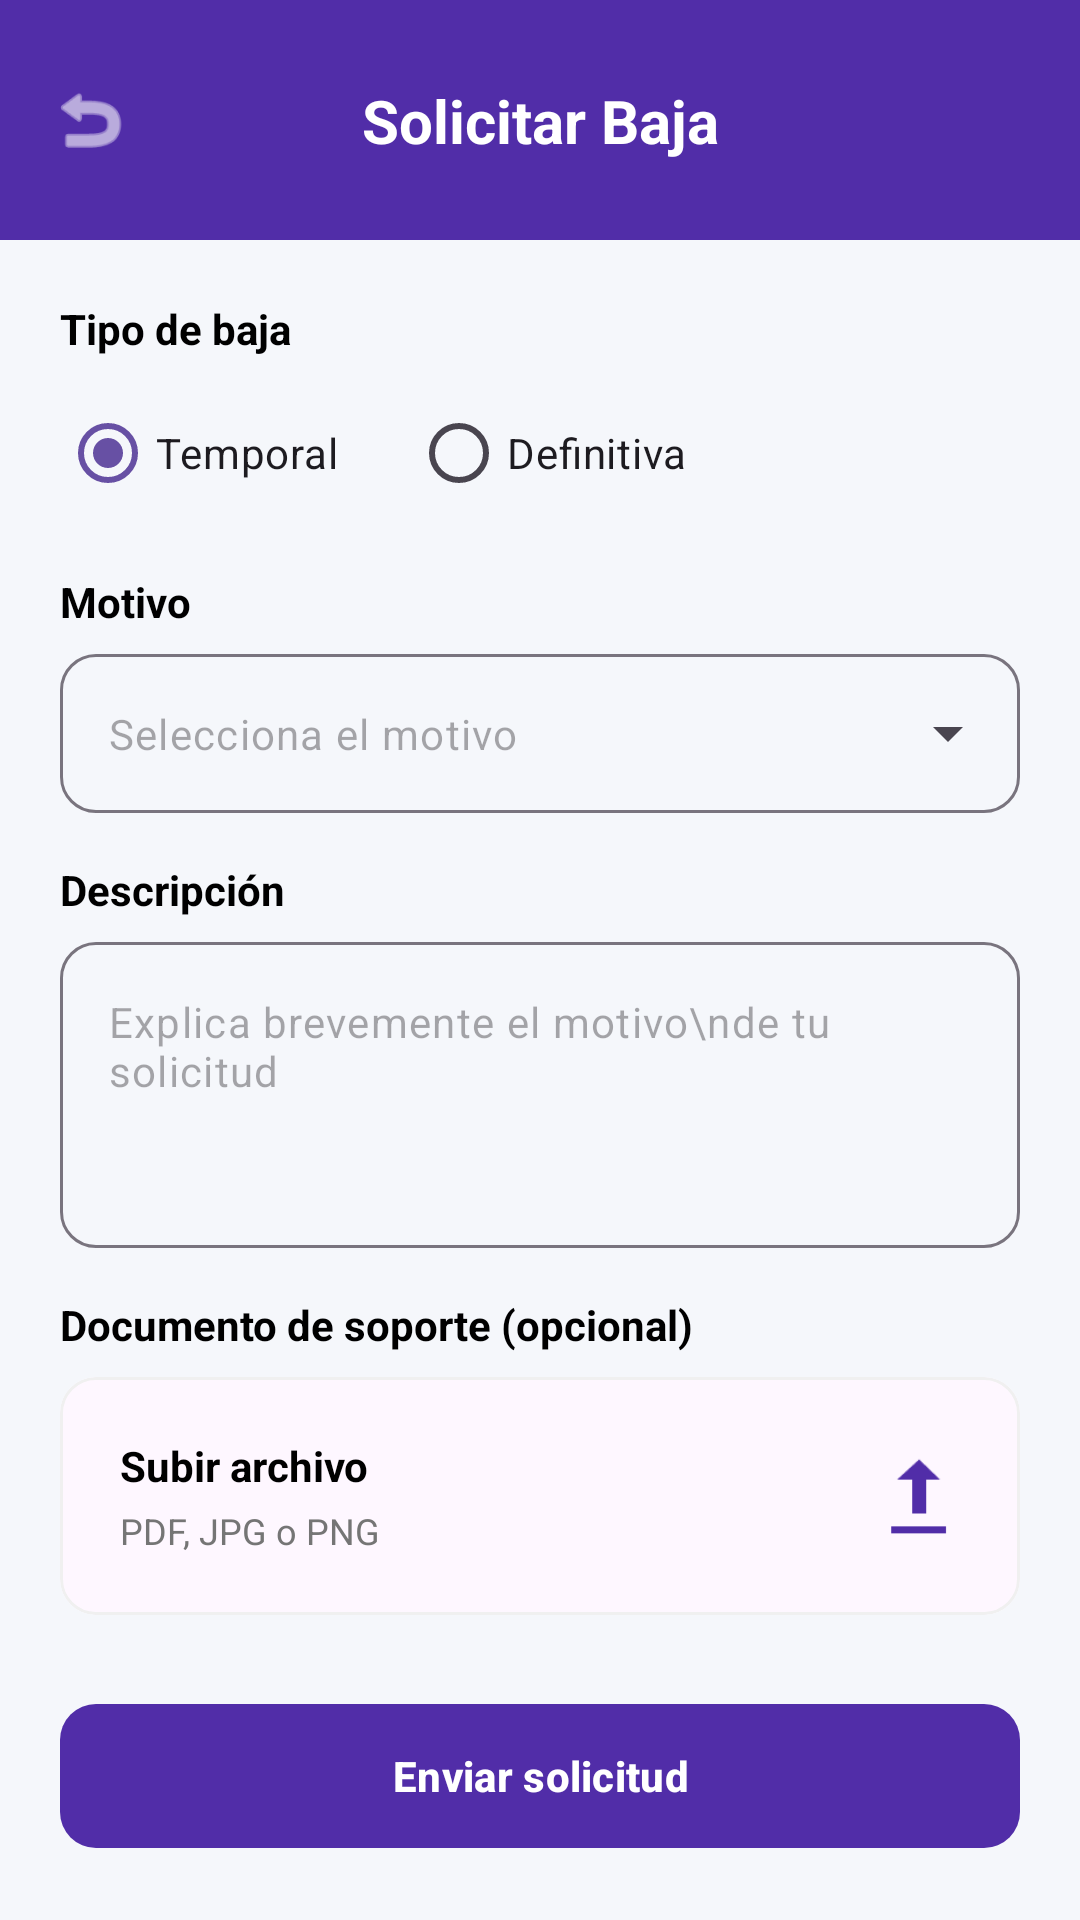

Point at icon controls on the screen. Image size 1080px x 1920px, points as (x=x, y=y).
revert: (x=91, y=120)
upload: (x=918, y=1496)
